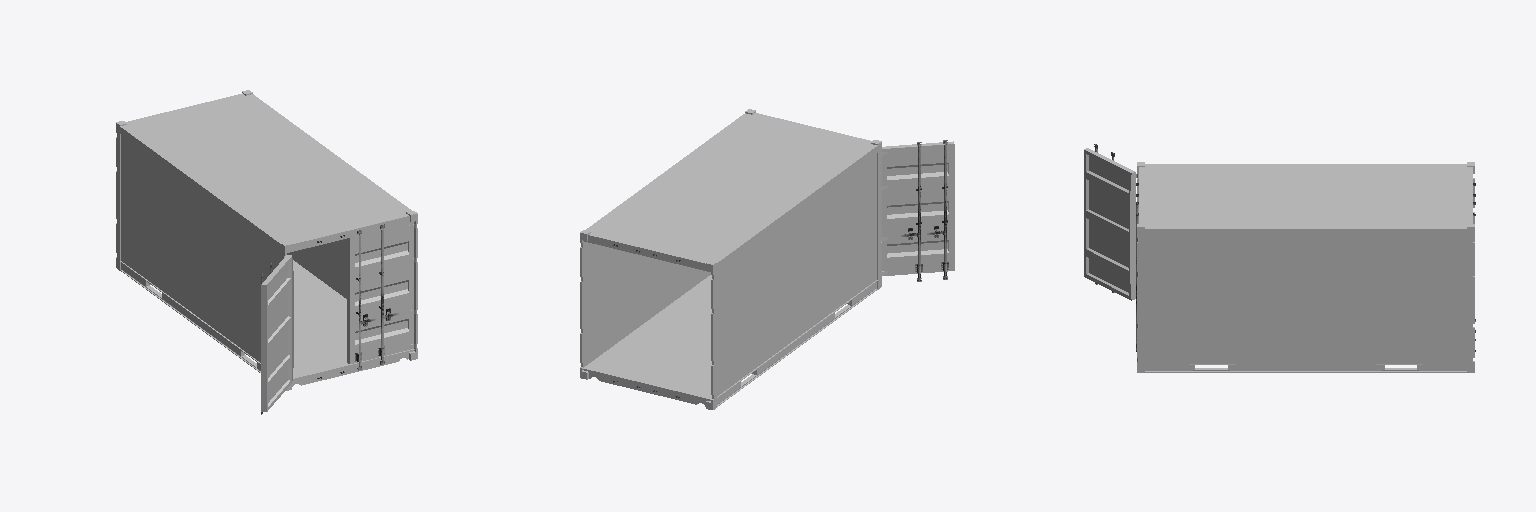
3 renders of one model, left to right at view 1: azimuth 30°, elevation 25°; view 2: azimuth 150°, elevation 25°; view 3: azimuth 270°, elevation 25°, orthographic.
Visible parts, largest first — view 1: Tole, Armature, Porte_1, Parquet, Porte, Barreau_de_fer.1_3; view 2: Tole, Armature, Porte, Parquet, Barreau_de_fer.1, Barreau_de_fer.1_1; view 3: Tole, Armature, Porte.
Boxes of the visible parts, x1,y1,x2,y2 form: Tole: [121, 95, 407, 362]; Armature: [116, 90, 417, 390]; Porte_1: [347, 222, 416, 363]; Parquet: [142, 260, 346, 375]; Porte: [261, 255, 293, 411]; Barreau_de_fer.1_3: [378, 224, 398, 364]; Tole: [590, 114, 876, 396]; Armature: [580, 109, 881, 409]; Porte: [881, 141, 954, 276]; Parquet: [586, 275, 866, 396]; Barreau_de_fer.1: [927, 140, 948, 279]; Barreau_de_fer.1_1: [901, 142, 922, 281]; Tole: [1143, 166, 1468, 362]; Armature: [1137, 162, 1474, 372]; Porte: [1084, 148, 1138, 300].
Size of the model in its own units: 277 by 213 by 521.
6 materials, 1 textured.